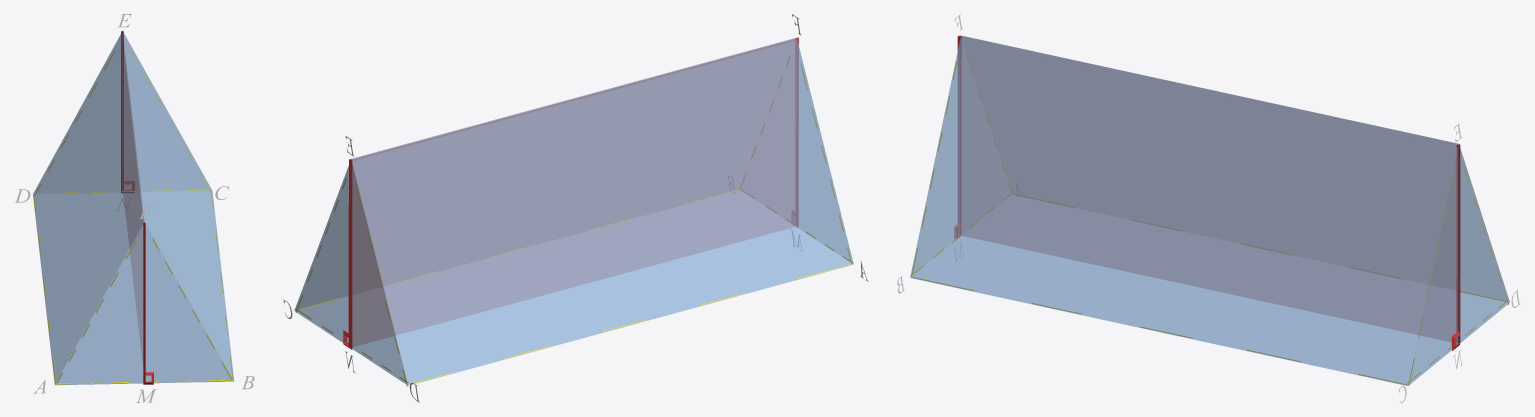
File: prism.glb
3 renders of one model, left to right at view 1: azimuth 30°, elevation 25°; view 2: azimuth 150°, elevation 25°; view 3: azimuth 270°, elevation 25°, orthographic. The views are drawn at different scales.
Parts seen in each view (by area): view 1: Prism001, Plane001, Line011, Line009; view 2: Prism001, Plane001, Line009, Line011; view 3: Prism001, Plane001, Line009, Line011.
Part boxes in pixels (box(x1,y1,x2,y2)): Prism001: box(33, 31, 234, 385); Plane001: box(122, 38, 143, 359); Line011: box(143, 222, 153, 384); Line009: box(121, 30, 134, 193); Prism001: box(294, 37, 853, 385); Plane001: box(352, 38, 798, 346); Line009: box(343, 159, 352, 349); Line011: box(791, 37, 798, 227); Prism001: box(910, 35, 1509, 385); Plane001: box(962, 36, 1457, 341); Line009: box(1451, 144, 1460, 350); Line011: box(954, 35, 961, 238).
Bounding box in the file's own units: 40.96 × 22.23 × 51.34.
